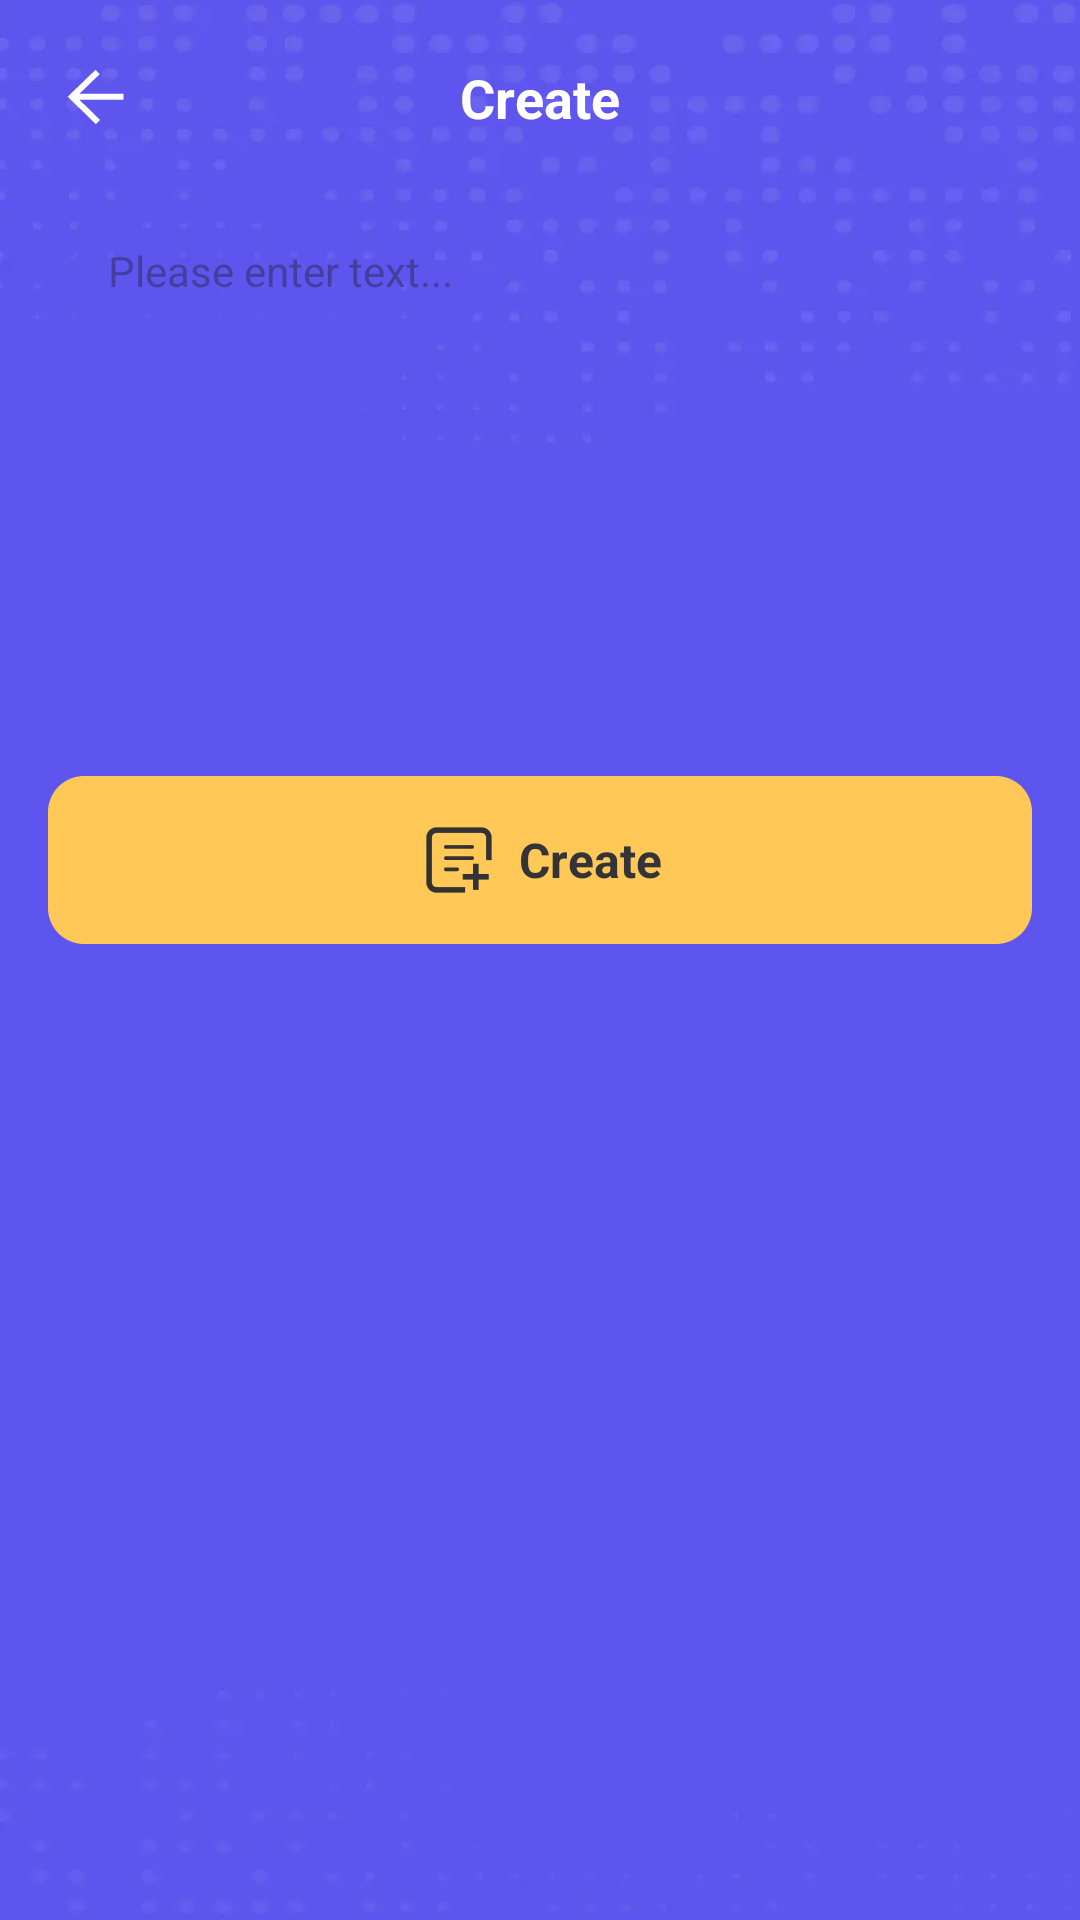

Icons on this 1080w x 1920h Android screen, each with the point to tap as [x,y]:
back: [96,97]
